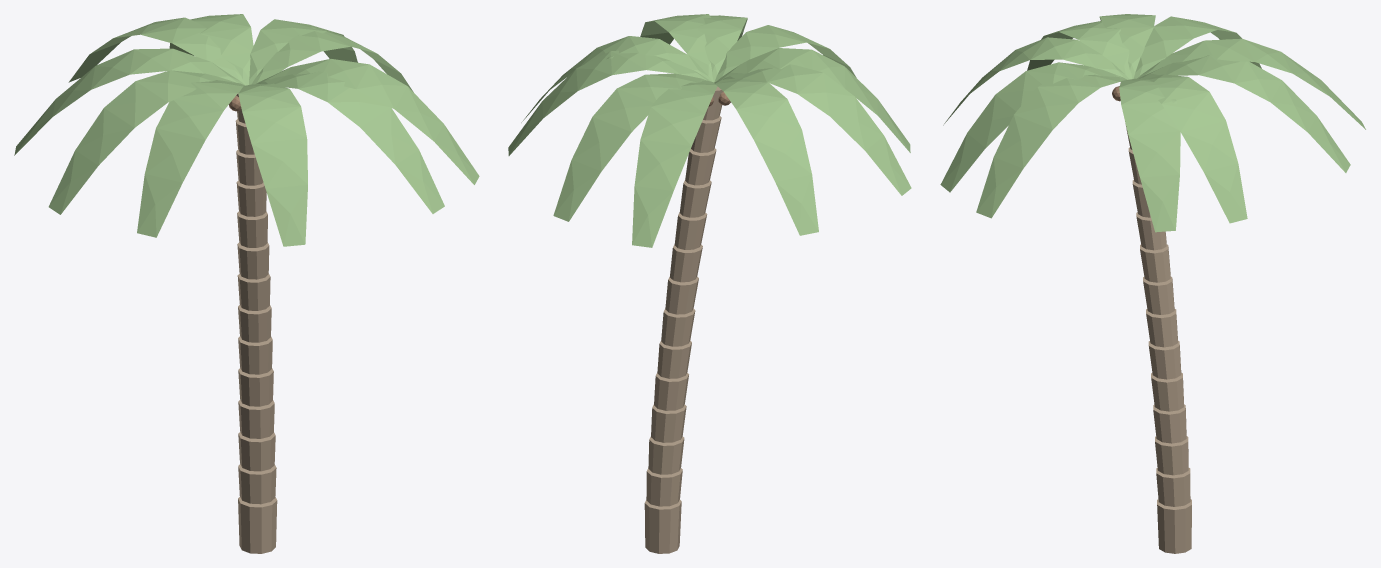
Rendered from palm_b.glb.
3 renders of one model, left to right at view 1: azimuth 30°, elevation 25°; view 2: azimuth 150°, elevation 25°; view 3: azimuth 270°, elevation 25°, orthographic. The views are drawn at different scales.
Parts seen in each view (by area): view 1: palm_b_palm, palm_b_bark; view 2: palm_b_palm, palm_b_bark; view 3: palm_b_palm, palm_b_bark.
Part boxes in pixels (x1=…): palm_b_palm: x1=14, y1=14, x2=479, y2=246; palm_b_bark: x1=235, y1=93, x2=277, y2=553; palm_b_palm: x1=508, y1=14, x2=911, y2=247; palm_b_bark: x1=644, y1=86, x2=723, y2=553; palm_b_palm: x1=940, y1=14, x2=1365, y2=232; palm_b_bark: x1=1120, y1=83, x2=1191, y2=553.
Size of the model in its own units: 4.84 by 6.12 by 4.98.
